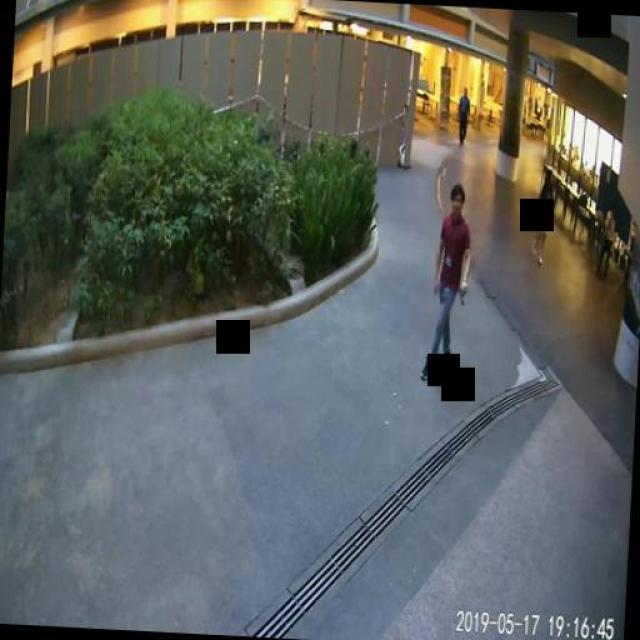gun: (456, 283, 466, 305)
